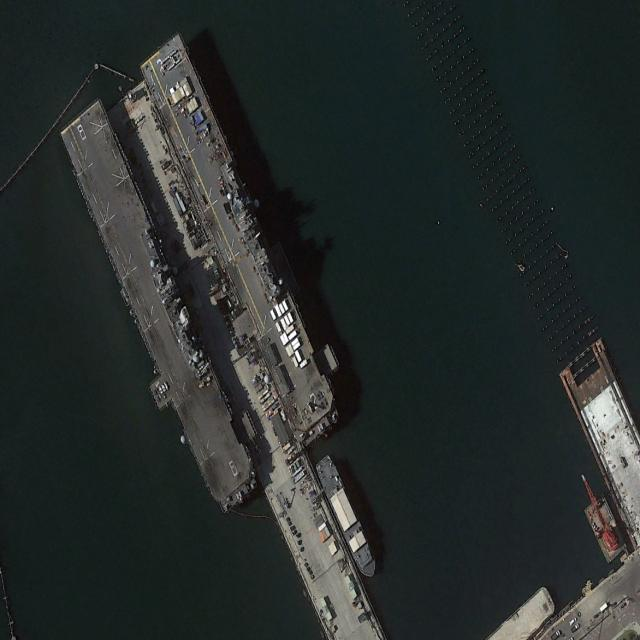Landing: (47, 84, 276, 533), (127, 18, 357, 462)
Other Ship: (313, 452, 380, 583)
